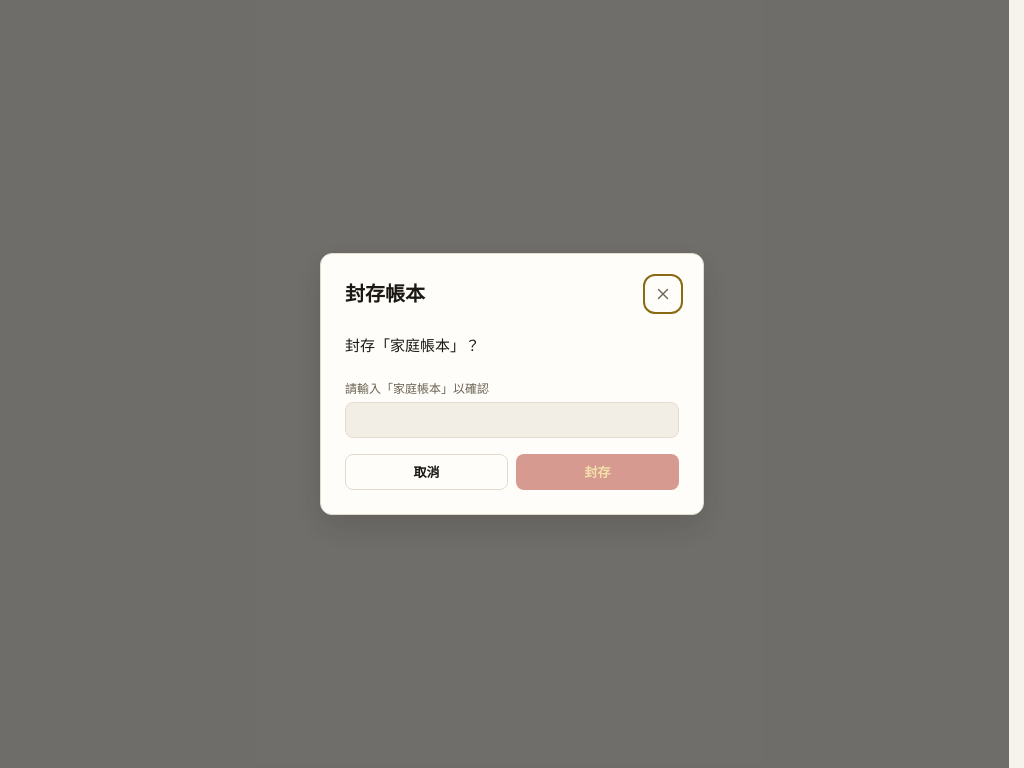
ConfirmDialog › ignores whitespace around the typed text
前後空白幾乎都是誤打或複製貼上帶進來的，擋下來只會讓人以為自己打錯了。
Type " 家庭帳本 " into the field labelled "請輸入「家庭帳本」以確認" at (512, 420), box [345,402,679,438]
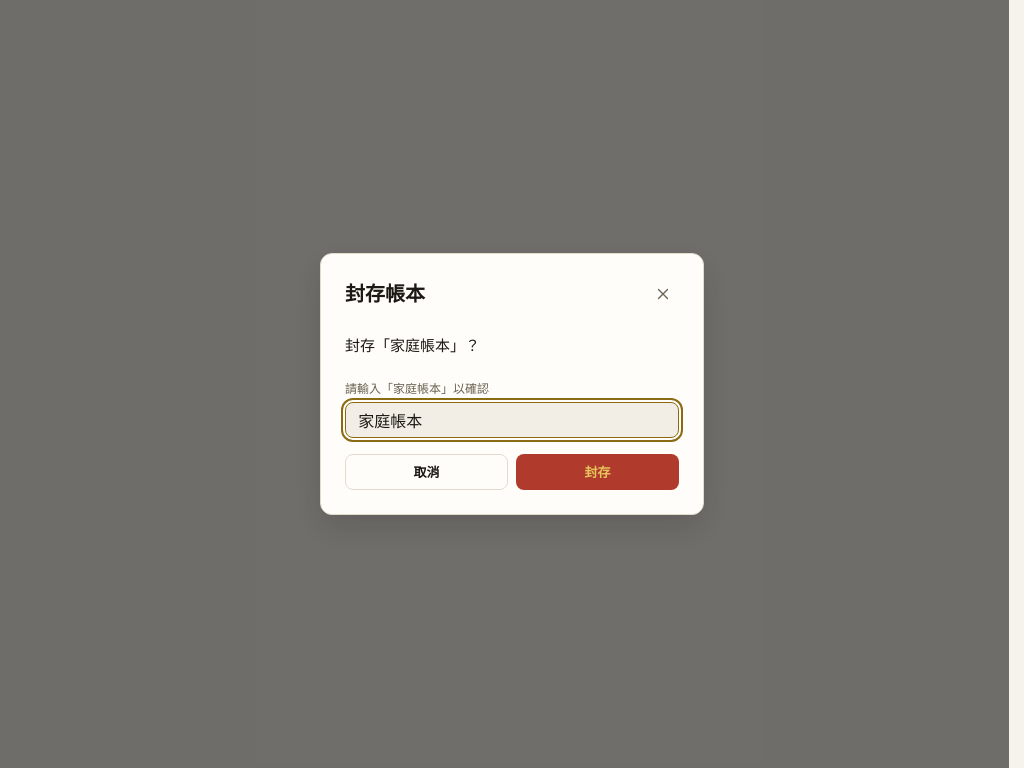
Expected: the button "封存" is enabled, [516,454,679,490]
